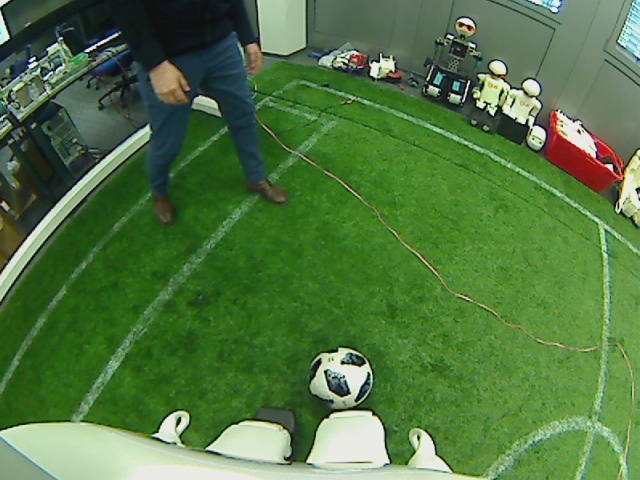ball: (307, 345, 374, 408)
